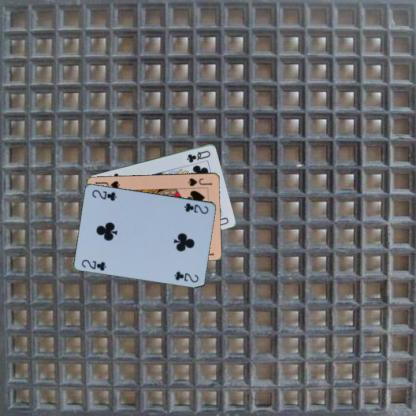2c: (79, 256, 108, 272), (182, 200, 210, 215)
Js: (186, 175, 213, 187)
Qc: (184, 148, 212, 163)
